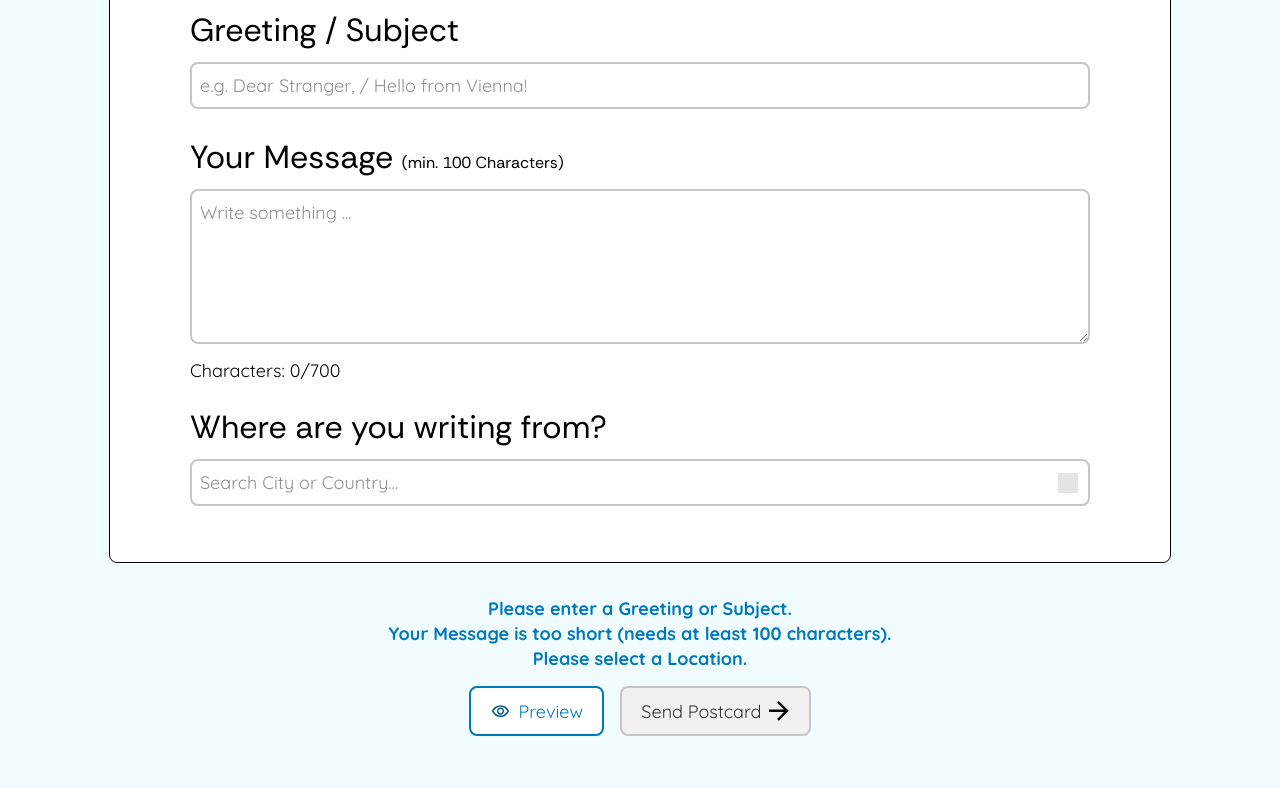
Test: Location search Tests › allows user to search and select a location
(page scrolled)
In the field with placeholder "Search City or Country...": (640, 483) [190,459,1090,506], type "Ber"
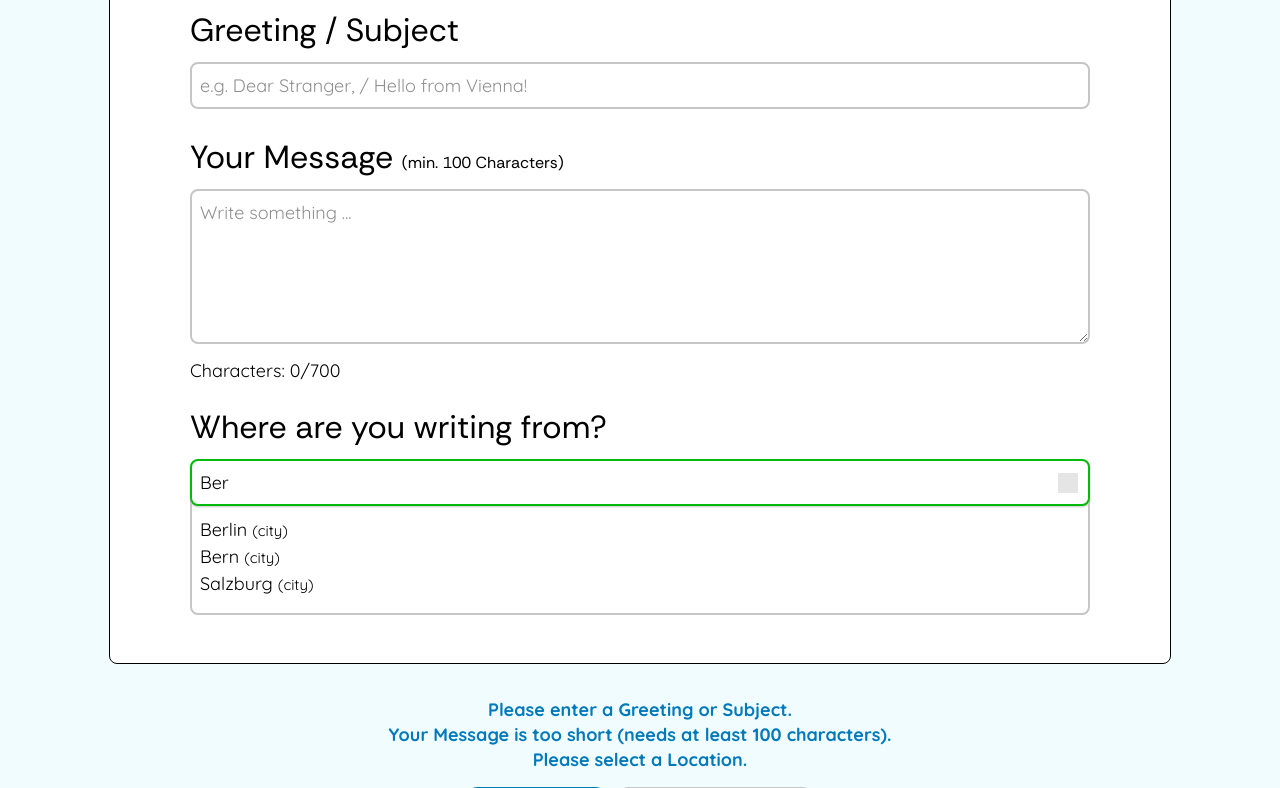
Expected: the option "Berlin (city)" is shown
Click the option "Berlin (city)": (244, 530) [200,518,288,541]
(page scrolled)
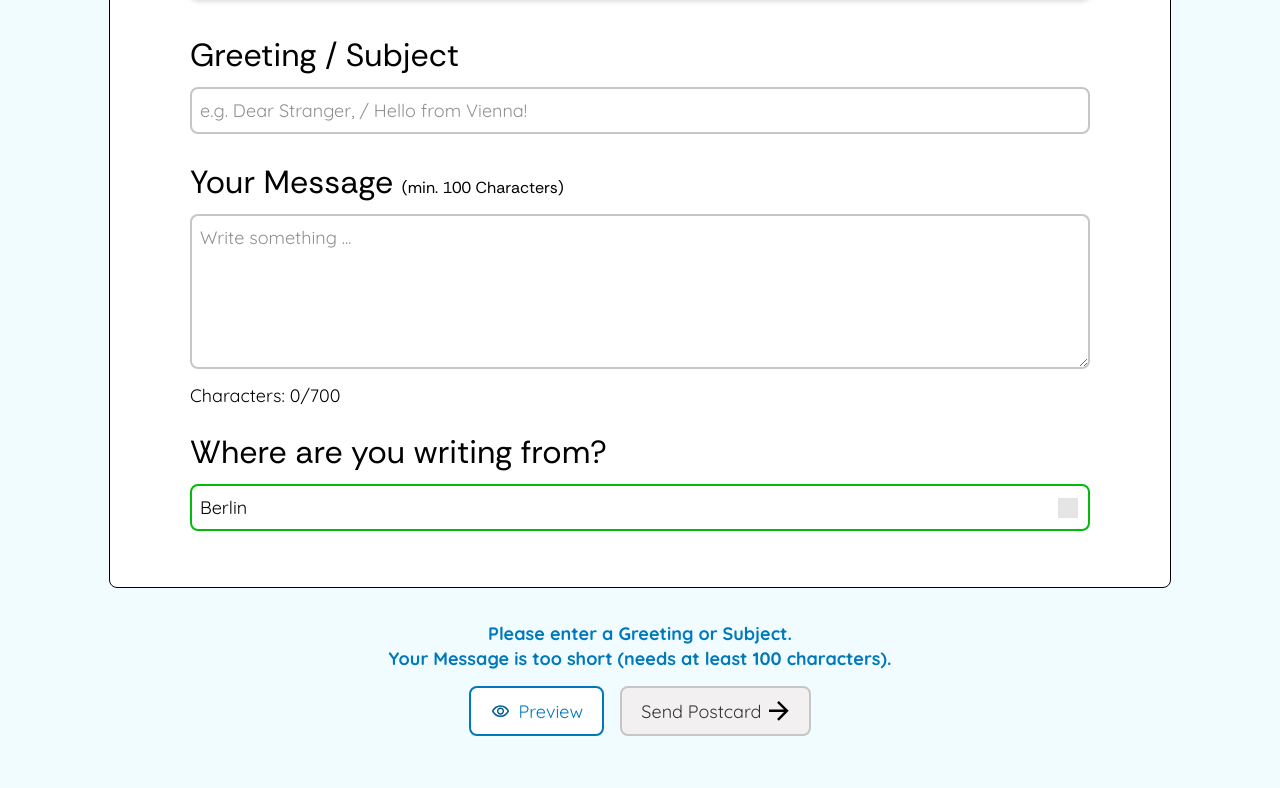
Expected: the field with placeholder "Search City or Country..." holds "Berlin", [190,484,1090,531]
